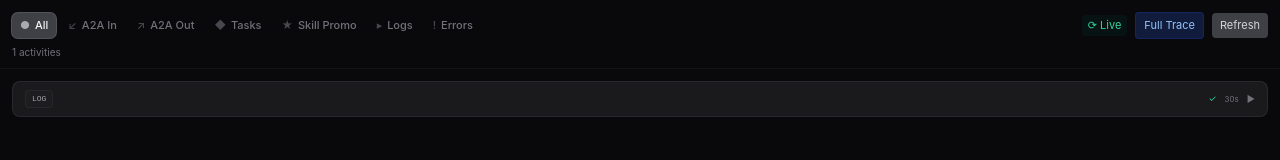
ActivityTab — activity count › shows count with filter name for filtered results
The width and height of the screenshot is (1280, 160).
Expected: the text "1 activities" is shown, [12,46,61,58]
What coordinates should you click on to do the following:
click the button "◆ Tasks"
I would click on:
 (238, 25)
Its box is [206,13,270,38].
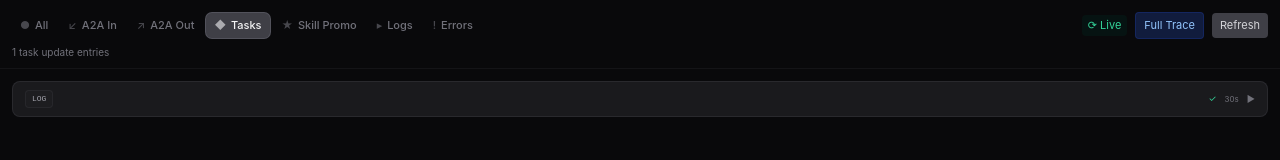
Expected: the text "1 task update entries" is shown, [12,46,109,58]
